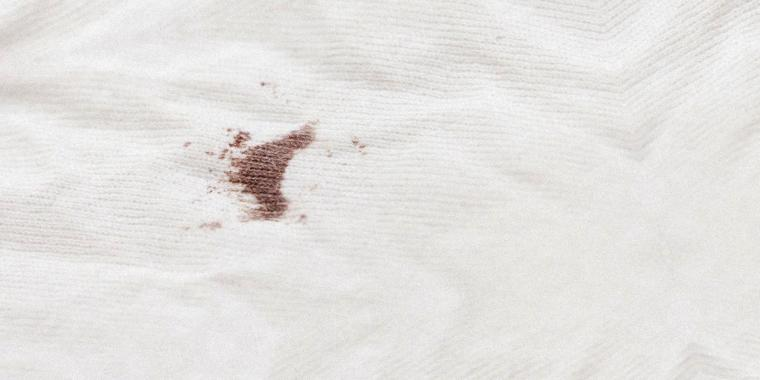stain: (222, 122, 319, 225)
